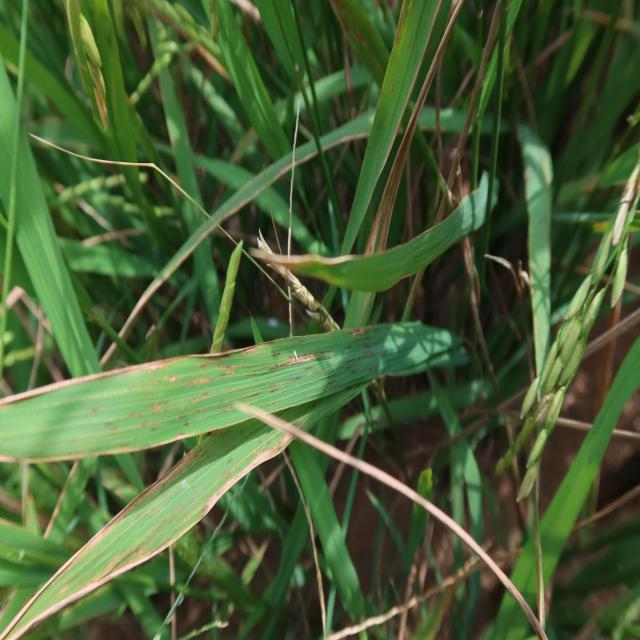Dom soc vi khuan: (263, 349, 335, 373), (263, 370, 325, 392), (217, 364, 246, 370)
